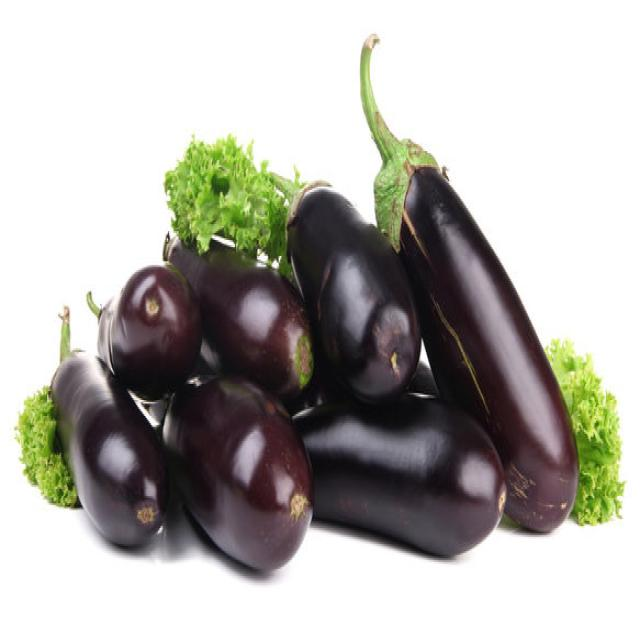Eggplant: (358, 31, 579, 534), (291, 391, 507, 558), (284, 180, 422, 406), (161, 372, 314, 572), (48, 306, 169, 548), (163, 229, 315, 402), (90, 261, 202, 400), (86, 290, 166, 428)
